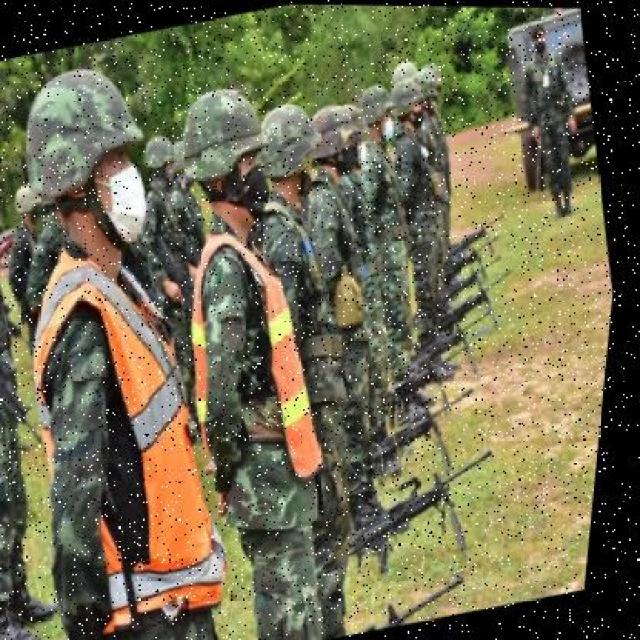MIL_Pax: (0, 72, 252, 639), (147, 89, 376, 640), (230, 102, 415, 561), (284, 100, 448, 466), (330, 72, 470, 426), (0, 175, 83, 640), (366, 69, 488, 368), (126, 148, 231, 392), (502, 5, 604, 216)
